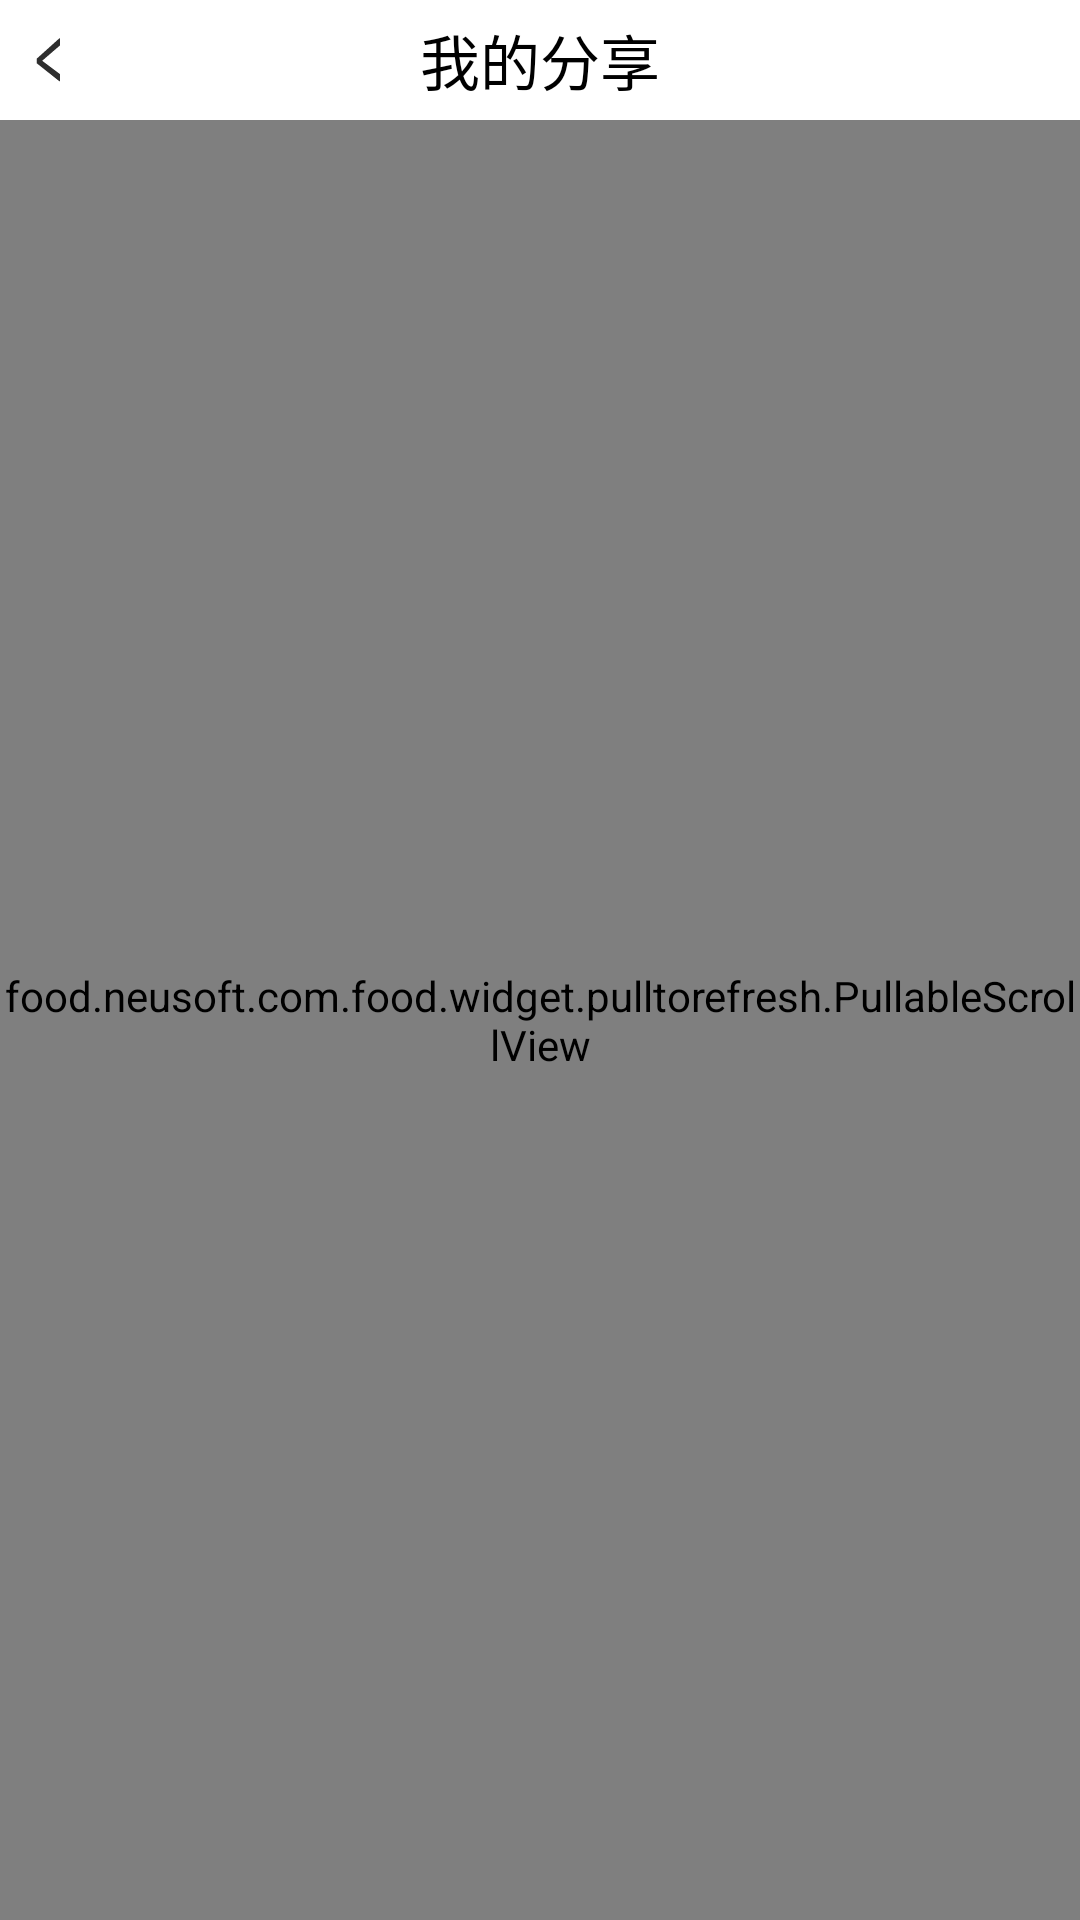

Named icons in this screenshot (1080 × 1920) and their centers, (x=x, y=y):
re arrow: (x=48, y=60)
